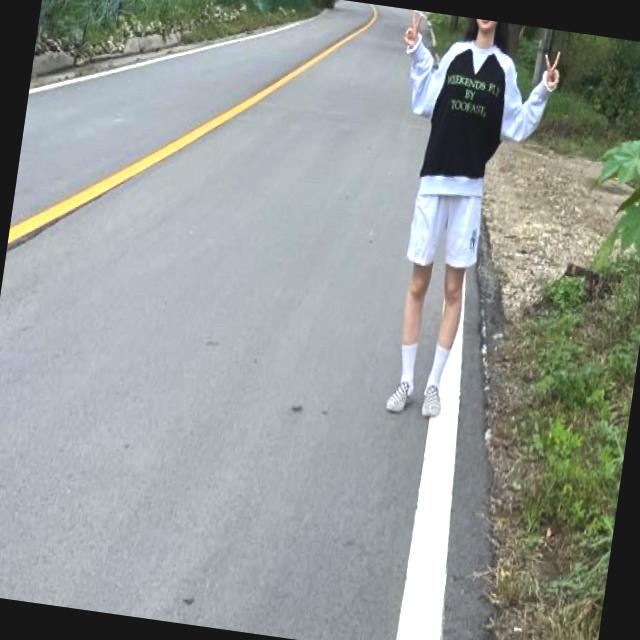mtm: (398, 34, 562, 198)
shortpants: (406, 180, 489, 274)
